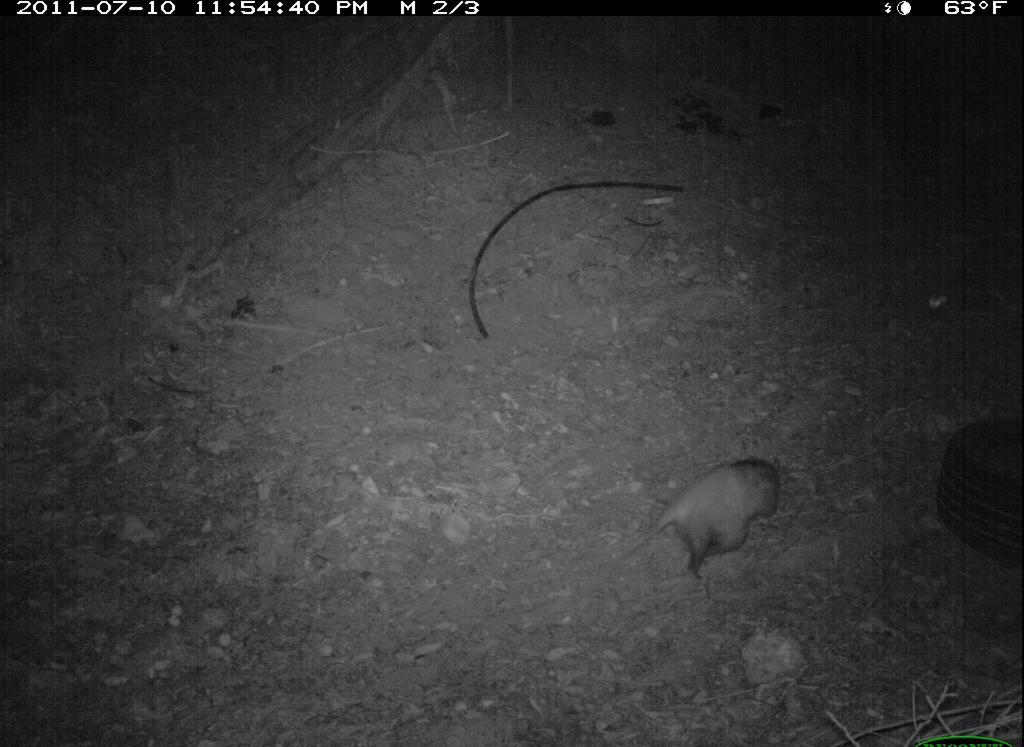opossum: (602, 447, 793, 583)
